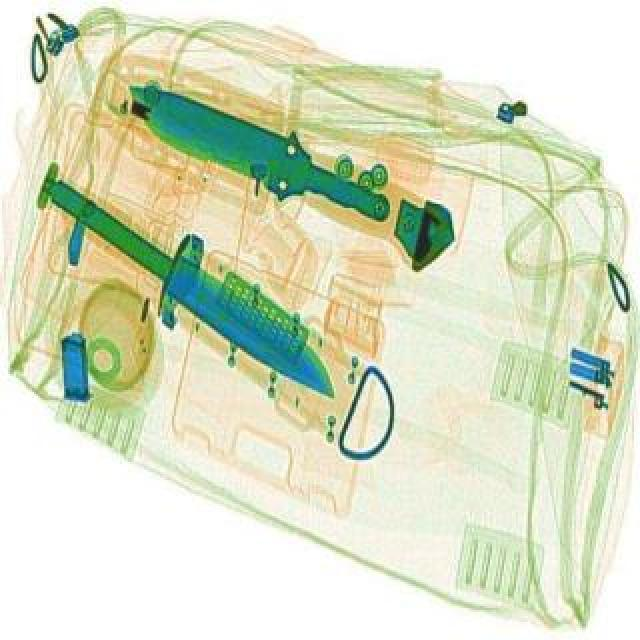knife: (6, 150, 374, 418), (106, 60, 408, 254)
